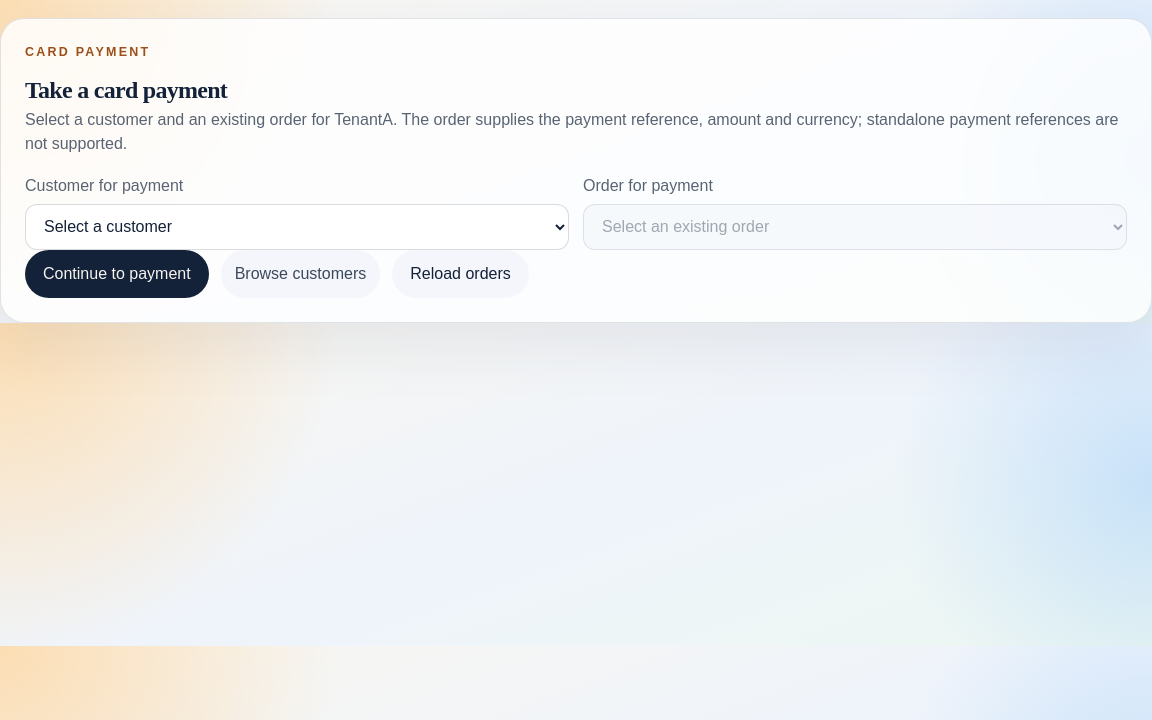
it: Payments entry selects persisted orders › offers order creation rather than payment when the customer has no eligible orders
Select "Alice — alice@example.test" in the dropdown labelled "Customer for payment". click: point(297, 227)
box: x1=25 y1=204 x2=569 y2=250
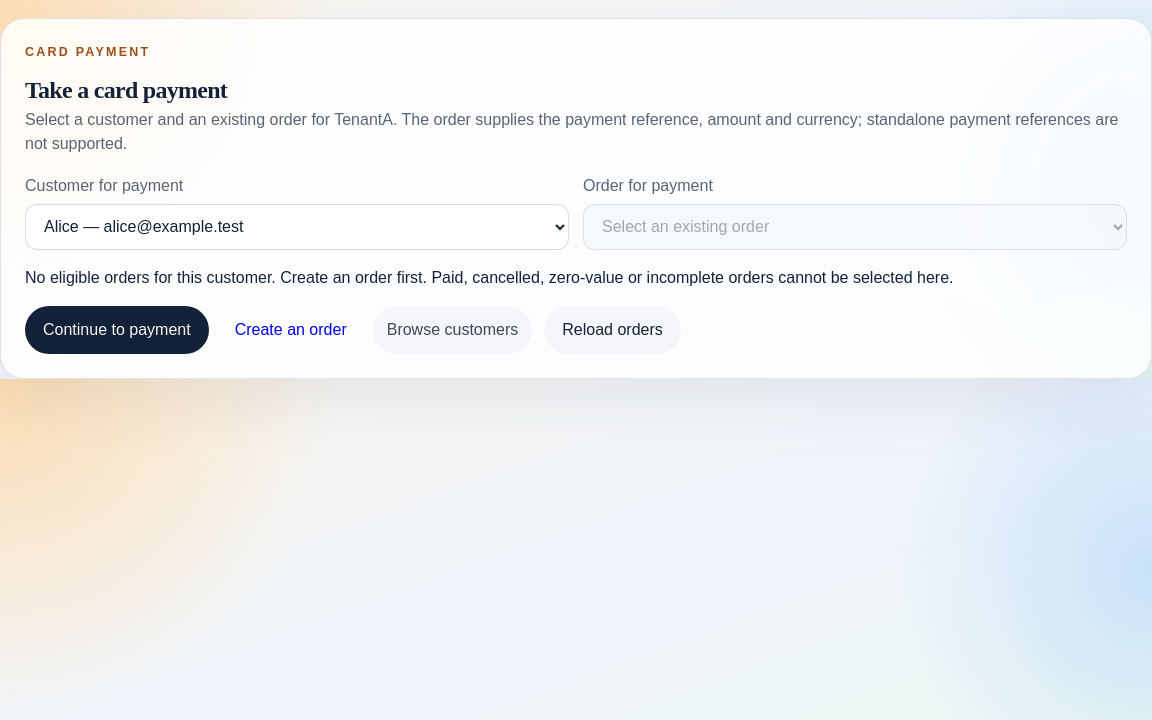
expect the button "Continue to payment" is disabled: met, box x1=25 y1=306 x2=209 y2=354
expect the text "No eligible orders" is shown: met, box x1=25 y1=269 x2=954 y2=286
